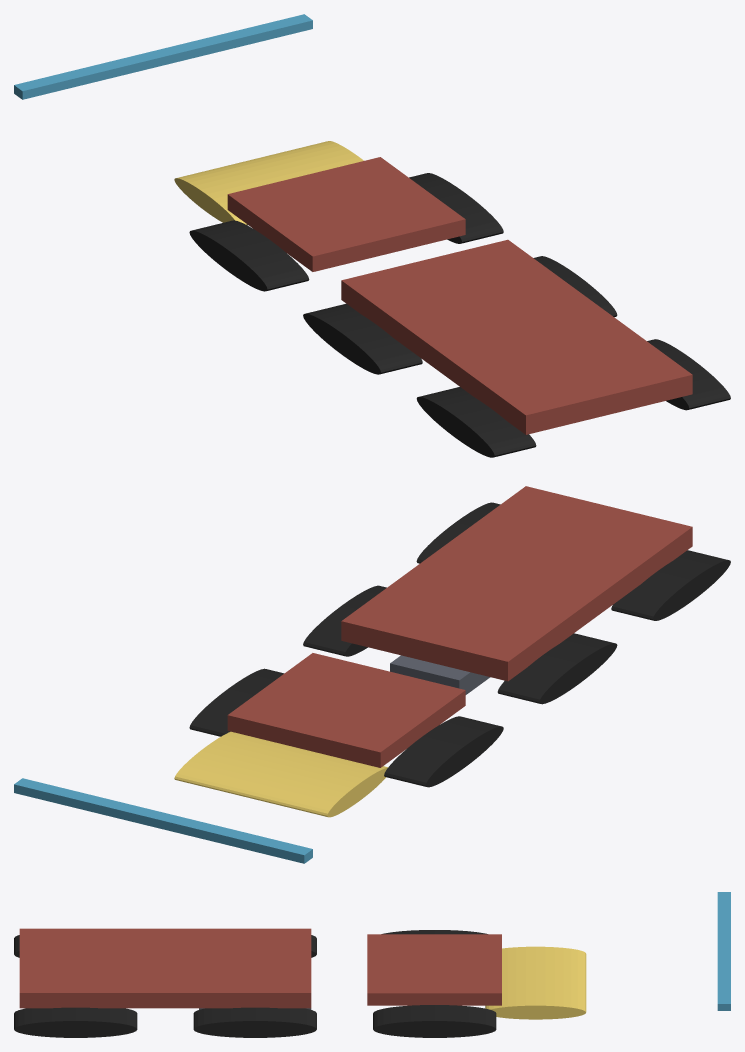
Rendered from SU_BogatyrOreCarrier_LOD0.glb.
3 renders of one model, top to bottom at view 1: azimuth 30°, elevation 25°; view 2: azimuth 150°, elevation 25°; view 3: azimuth 270°, elevation 25°, orthographic. The views are drawn at different scales.
Parts seen in each view (by area): view 1: Cube.003, Cube.001, Cylinder.006, Cube.002, Cylinder.002, Cylinder, Cylinder.001, Cylinder.005, Cylinder.003, Cylinder.004; view 2: Cube.003, Cube.001, Cylinder.006, Cube.002, Cylinder.002, Cylinder.001, Cylinder, Cylinder.005, Cylinder.004, Cube, Cylinder.003; view 3: Cube.003, Cube.001, Cylinder.006, Cylinder.005, Cylinder.003, Cylinder.004, Cube.002, Cylinder.002.
Part boxes in pixels (left/top/right/bottom): Cube.003: left=341, top=239, right=692, bottom=434; Cube.001: left=227, top=157, right=465, bottom=271; Cylinder.006: left=174, top=141, right=363, bottom=225; Cube.002: left=14, top=14, right=312, bottom=99; Cylinder.002: left=189, top=220, right=309, bottom=291; Cylinder: left=416, top=387, right=536, bottom=457; Cylinder.001: left=303, top=303, right=422, bottom=374; Cylinder.005: left=409, top=173, right=503, bottom=243; Cylinder.003: left=647, top=339, right=730, bottom=410; Cylinder.004: left=533, top=256, right=617, bottom=317; Cube.003: left=341, top=486, right=692, bottom=681; Cube.001: left=227, top=653, right=465, bottom=767; Cylinder.006: left=174, top=731, right=387, bottom=817; Cube.002: left=14, top=778, right=312, bottom=863; Cylinder.002: left=384, top=716, right=503, bottom=787; Cylinder.001: left=497, top=633, right=617, bottom=704; Cylinder: left=611, top=550, right=730, bottom=620; Cylinder.005: left=189, top=668, right=284, bottom=736; Cylinder.004: left=303, top=585, right=386, bottom=656; Cube: left=390, top=655, right=490, bottom=694; Cylinder.003: left=416, top=502, right=500, bottom=563; Cube.003: left=19, top=928, right=311, bottom=1008; Cube.001: left=367, top=934, right=501, bottom=1005; Cylinder.006: left=485, top=946, right=586, bottom=1019; Cylinder.005: left=373, top=1005, right=496, bottom=1037; Cylinder.003: left=14, top=1007, right=137, bottom=1037; Cylinder.004: left=193, top=1007, right=316, bottom=1037; Cube.002: left=717, top=892, right=730, bottom=1010; Cylinder.002: left=381, top=930, right=487, bottom=934.
Size of what is drawn, in the model's own units: 10.87 by 2.36 by 29.39.
